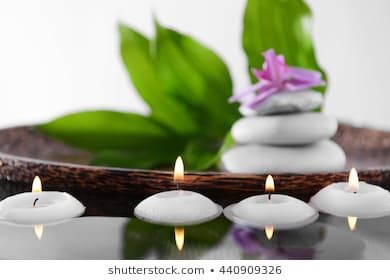fire: (344, 163, 361, 191), (171, 151, 186, 182), (29, 172, 44, 200), (261, 170, 277, 195)
